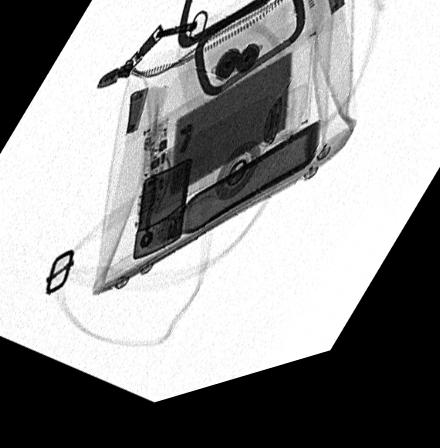Lighter: (130, 166, 191, 266)
Powerbank: (141, 41, 317, 230)
Sprayer: (149, 100, 307, 222)
